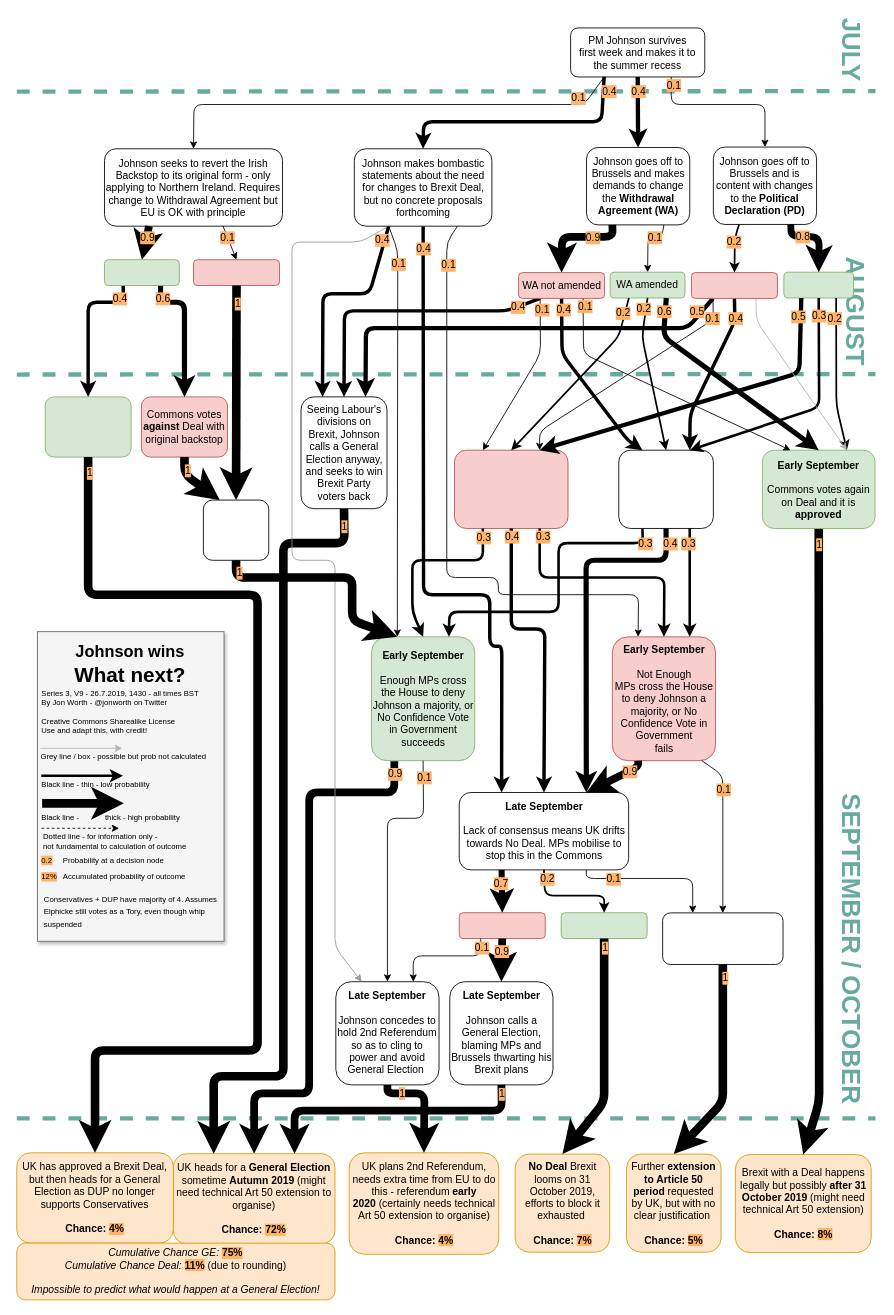
The diagram is 894 pixels wide and 1315 high, and some of its shapes have lost their labels. The shapes that lost their labels are listed below. From the top down, each one's centre as x and y in pixels, then its label:
the point at 141,272: EU agrees
the point at 236,272: EU doesn't agree
the point at 734,285: PD not amended
the point at 818,284: PD amended
the point at 87,426: Commons votes in favour of Deal with original backstop
the point at 511,488: Early September Commons votes again on Deal and it is rejected again
the point at 665,488: Early September No vote on any Deal happens
the point at 236,529: DUP furious at Johnson's approach
the point at 501,925: No Deal is blocked
the point at 603,925: No Deal is not blocked
the point at 722,938: Johnson reluctantly goes to Brussels and asks for further Art 50 extension
